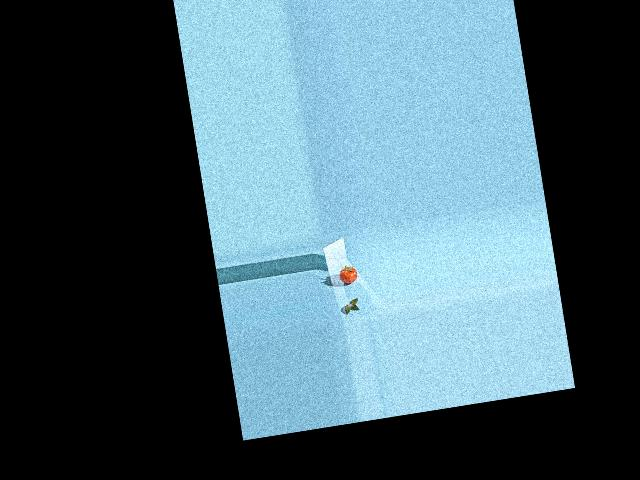tomato: (337, 265, 358, 284)
